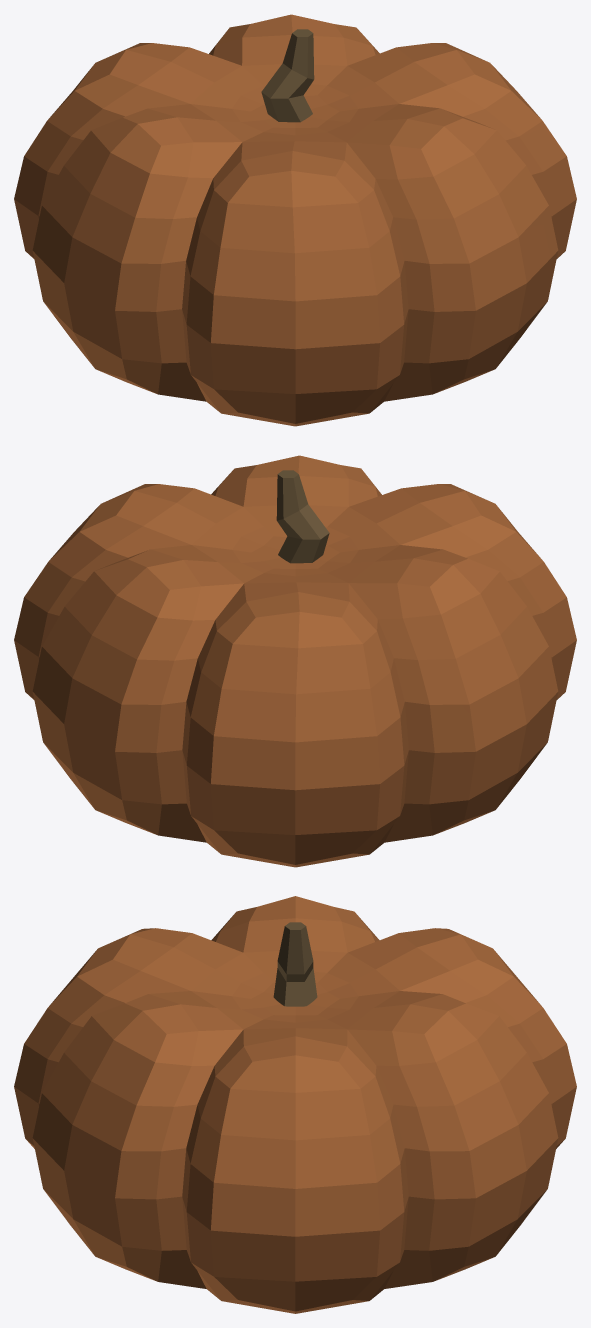
File: pumpkin_patch.glb
3 renders of one model, top to bottom at view 1: azimuth 30°, elevation 25°; view 2: azimuth 150°, elevation 25°; view 3: azimuth 270°, elevation 25°, orthographic.
Visible parts, largest first — view 1: Pumpkin; view 2: Pumpkin; view 3: Pumpkin.
Part boxes in pixels (left/top/right/bottom): Pumpkin: left=14, top=14, right=576, bottom=426; Pumpkin: left=14, top=455, right=576, bottom=867; Pumpkin: left=14, top=896, right=576, bottom=1313.
Bounding box in the file's own units: 1.5 × 0.9309 × 1.51.
Materials: 1 (1 with a texture image).
